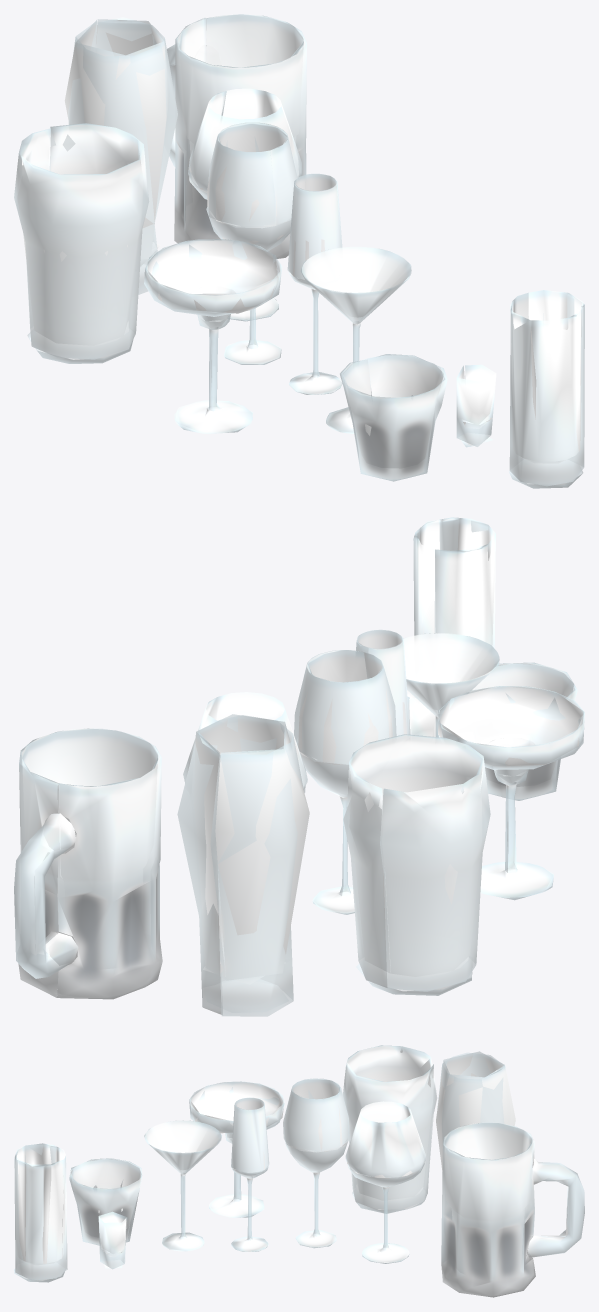
Rendered from glasses_bar.glb.
3 views of the same model, one above another, from view 1: azimuth 30°, elevation 25°; view 2: azimuth 150°, elevation 25°; view 3: azimuth 270°, elevation 25° (orthographic). The views are drawn at different scales.
Visible parts, largest first — view 1: pint_low_lambert1_0, beer_mug_low_lambert1_0, Highball_low_lambert1_0, pilsner_low_lambert1_0, marghareta_low_lambert1_0, white_wine_low_lambert1_0, rocks_low_lambert1_0, cocktail_low_lambert1_0, champange_flute_low_lambert1_0, red_wine_low_lambert1_0, shot_low_lambert1_0; view 2: beer_mug_low_lambert1_0, pint_low_lambert1_0, pilsner_low_lambert1_0, marghareta_low_lambert1_0, white_wine_low_lambert1_0, Highball_low_lambert1_0, cocktail_low_lambert1_0, rocks_low_lambert1_0, red_wine_low_lambert1_0, champange_flute_low_lambert1_0, shot_low_lambert1_0; view 3: beer_mug_low_lambert1_0, pint_low_lambert1_0, Highball_low_lambert1_0, red_wine_low_lambert1_0, white_wine_low_lambert1_0, pilsner_low_lambert1_0, marghareta_low_lambert1_0, rocks_low_lambert1_0, cocktail_low_lambert1_0, champange_flute_low_lambert1_0, shot_low_lambert1_0.
Boxes of the visible parts, x1=… form: pint_low_lambert1_0: x1=14, y1=123, x2=149, y2=363; beer_mug_low_lambert1_0: x1=167, y1=14, x2=306, y2=258; Highball_low_lambert1_0: x1=509, y1=290, x2=584, y2=488; pilsner_low_lambert1_0: x1=64, y1=17, x2=177, y2=294; marghareta_low_lambert1_0: x1=144, y1=239, x2=282, y2=433; white_wine_low_lambert1_0: x1=206, y1=122, x2=297, y2=364; rocks_low_lambert1_0: x1=340, y1=354, x2=447, y2=481; cocktail_low_lambert1_0: x1=300, y1=246, x2=411, y2=433; champange_flute_low_lambert1_0: x1=287, y1=173, x2=342, y2=394; red_wine_low_lambert1_0: x1=188, y1=88, x2=302, y2=321; shot_low_lambert1_0: x1=456, y1=364, x2=496, y2=447; beer_mug_low_lambert1_0: x1=14, y1=728, x2=162, y2=999; pint_low_lambert1_0: x1=343, y1=734, x2=490, y2=995; pilsner_low_lambert1_0: x1=177, y1=714, x2=309, y2=1016; marghareta_low_lambert1_0: x1=438, y1=686, x2=584, y2=900; white_wine_low_lambert1_0: x1=294, y1=650, x2=396, y2=914; Highball_low_lambert1_0: x1=413, y1=517, x2=495, y2=651; cocktail_low_lambert1_0: x1=402, y1=633, x2=499, y2=737; rocks_low_lambert1_0: x1=468, y1=662, x2=577, y2=800; red_wine_low_lambert1_0: x1=183, y1=692, x2=307, y2=792; champange_flute_low_lambert1_0: x1=356, y1=629, x2=409, y2=738; shot_low_lambert1_0: x1=407, y1=690, x2=438, y2=739; beer_mug_low_lambert1_0: x1=441, y1=1122, x2=584, y2=1297; pint_low_lambert1_0: x1=343, y1=1045, x2=437, y2=1213; Highball_low_lambert1_0: x1=14, y1=1143, x2=67, y2=1282; red_wine_low_lambert1_0: x1=345, y1=1101, x2=425, y2=1263; white_wine_low_lambert1_0: x1=283, y1=1078, x2=349, y2=1248; pilsner_low_lambert1_0: x1=436, y1=1051, x2=515, y2=1171; marghareta_low_lambert1_0: x1=189, y1=1081, x2=284, y2=1217; rocks_low_lambert1_0: x1=69, y1=1158, x2=142, y2=1245; cocktail_low_lambert1_0: x1=144, y1=1120, x2=221, y2=1251; champange_flute_low_lambert1_0: x1=231, y1=1097, x2=269, y2=1251; shot_low_lambert1_0: x1=98, y1=1211, x2=127, y2=1269.
Size of the model in its own units: 0.2272 by 0.1531 by 0.465.
1 material, 1 textured.
